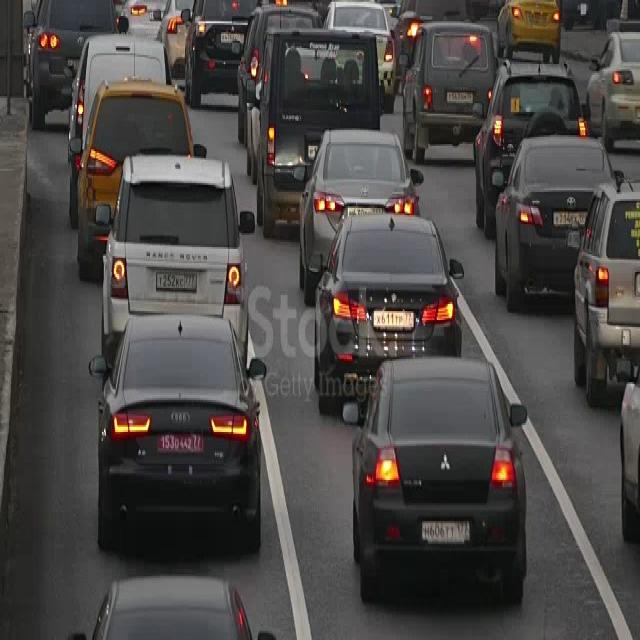Car: (353, 359, 531, 595), (93, 314, 266, 532), (318, 217, 476, 363), (107, 162, 245, 322), (82, 71, 205, 190), (63, 573, 275, 640), (303, 126, 424, 231), (576, 191, 640, 385), (256, 24, 376, 122), (496, 149, 616, 231), (486, 69, 594, 148), (408, 28, 503, 117), (26, 0, 117, 85), (69, 21, 168, 98), (188, 0, 280, 61), (582, 37, 640, 123), (322, 0, 400, 58), (490, 0, 568, 55)
